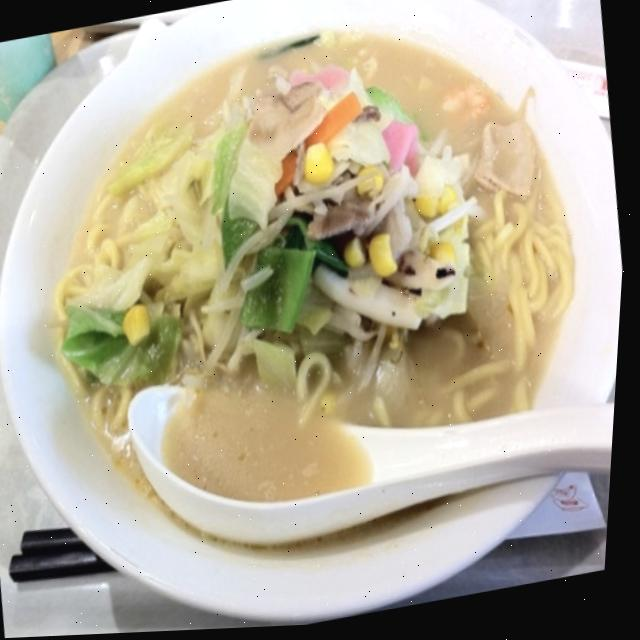豆腐料理: (13, 0, 550, 569)
